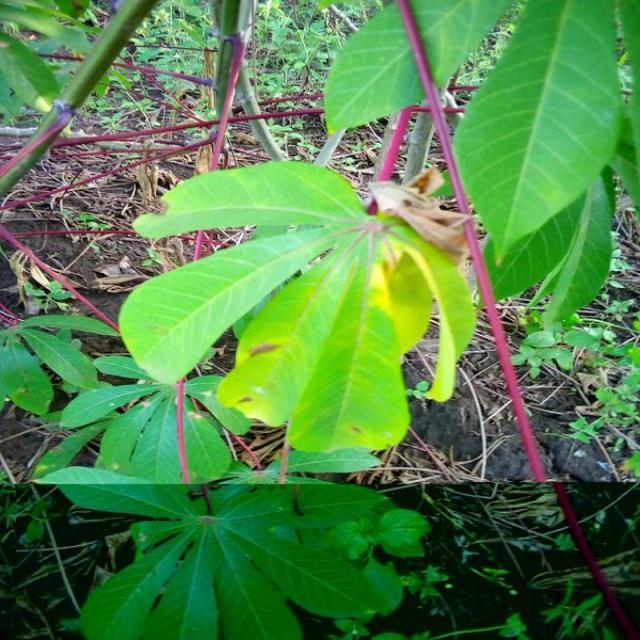cassava leaf: (118, 158, 477, 456), (451, 0, 623, 303), (322, 0, 511, 135)
